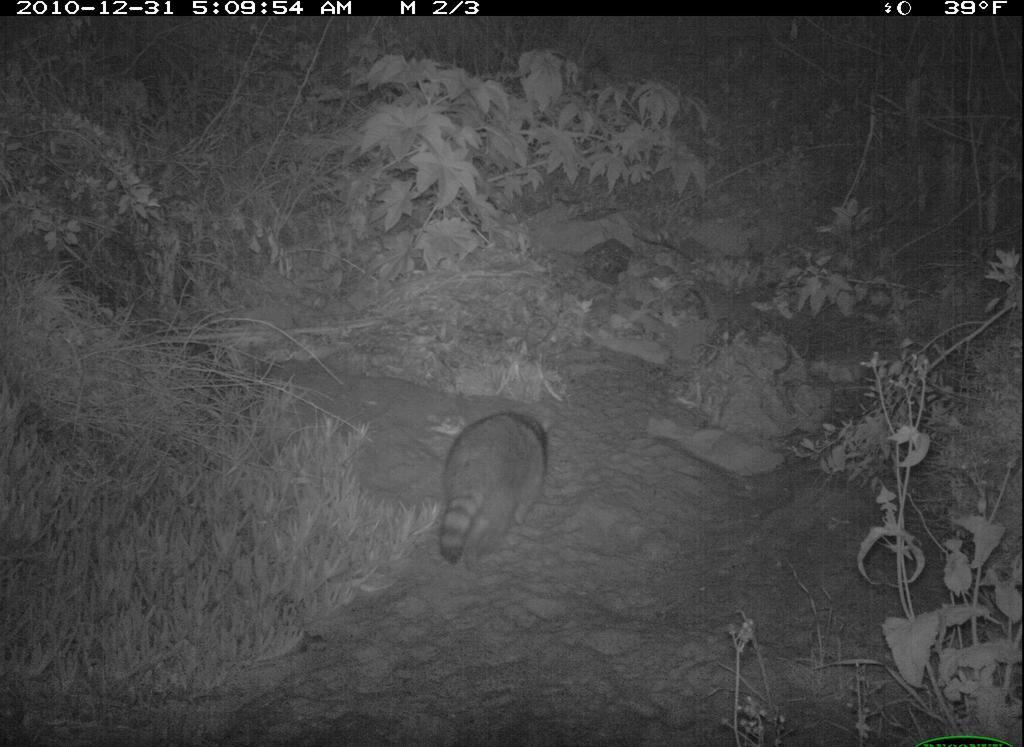raccoon: (420, 404, 573, 591)
